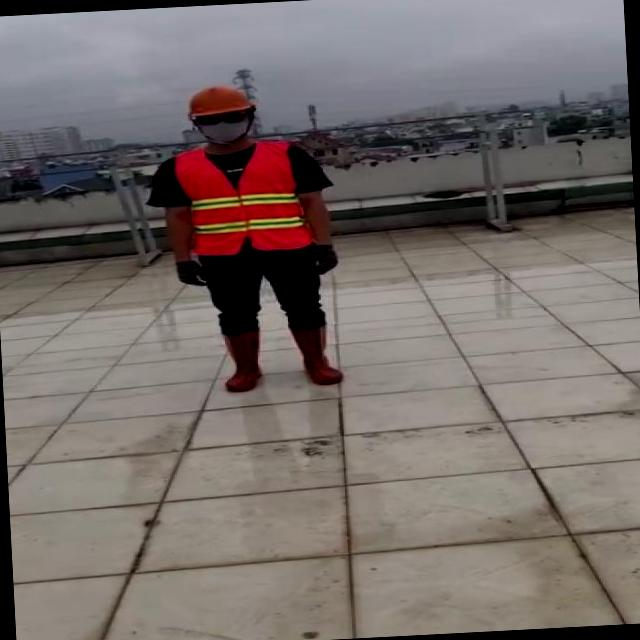boots: (286, 322, 348, 387), (219, 329, 270, 392)
helmet: (184, 82, 255, 119)
vest: (173, 140, 310, 258)
